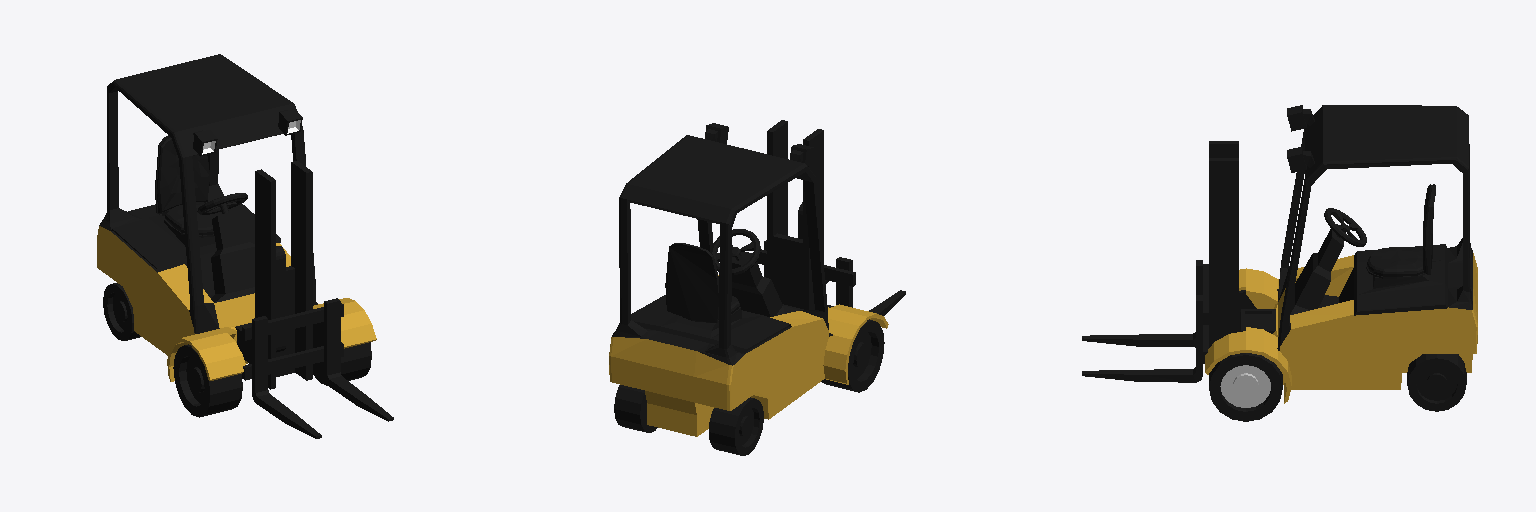
The model's file is forklift.obj.
The picture shows the model from 3 angles: view 1: azimuth 30°, elevation 25°; view 2: azimuth 150°, elevation 25°; view 3: azimuth 270°, elevation 25°; orthographic projection.
Visible parts, largest first — view 1: Cube; view 2: Cube; view 3: Cube.
Part boxes in pixels (x1,y1,x2,y2): Cube: (97,54,393,438); Cube: (609,120,905,455); Cube: (1082,105,1477,421).
Bounding box in the file's own units: 1.81 × 2.63 × 3.74.